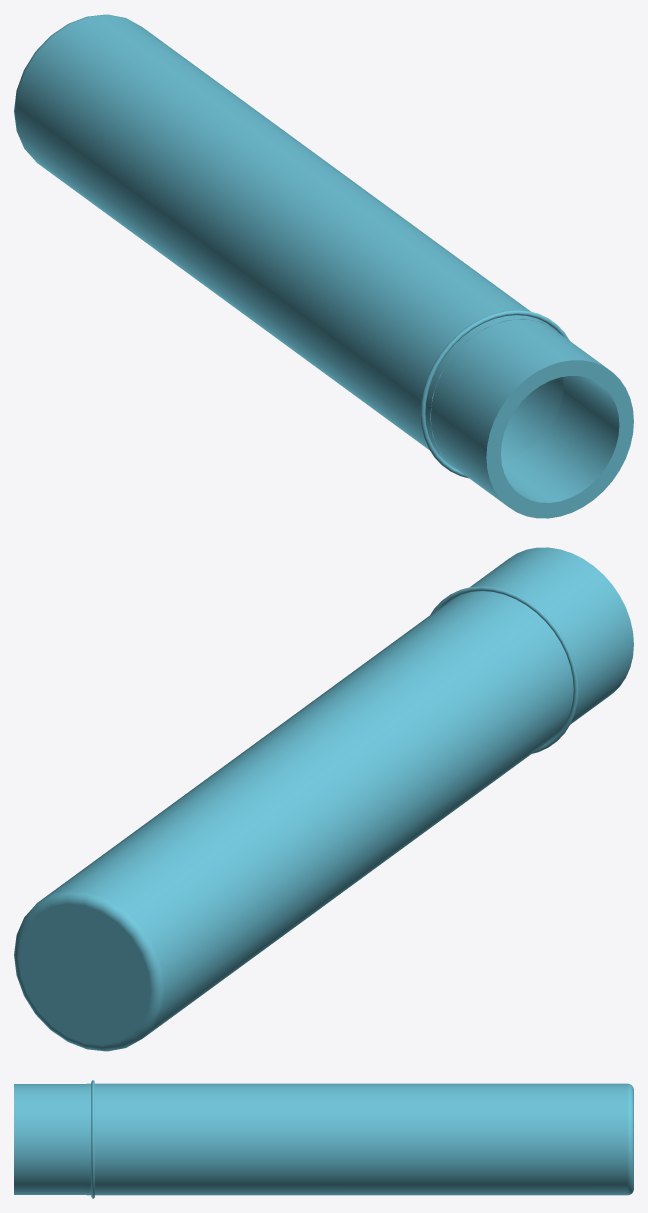
Rendered from polypropene-base-1.obj.
The picture shows the model from 3 angles, top to bottom: view 1: azimuth 30°, elevation 25°; view 2: azimuth 150°, elevation 25°; view 3: azimuth 270°, elevation 25°; orthographic projection. The views are drawn at different scales.
Visible parts, largest first — view 1: Body1, Body2, Body3; view 2: Body1, Body2, Body3; view 3: Body1, Body2, Body3.
Part boxes in pixels (left/top/right/bottom): Body1: left=14, top=14, right=563, bottom=468; Body2: left=430, top=319, right=633, bottom=518; Body3: left=420, top=310, right=569, bottom=478; Body1: left=14, top=589, right=578, bottom=1051; Body2: left=470, top=547, right=633, bottom=724; Body3: left=430, top=586, right=578, bottom=753; Body1: left=86, top=1083, right=633, bottom=1195; Body2: left=14, top=1084, right=86, bottom=1194; Body3: left=91, top=1080, right=94, bottom=1198.
Bounding box in the file's own units: 1.8 × 1.79 × 9.4.
